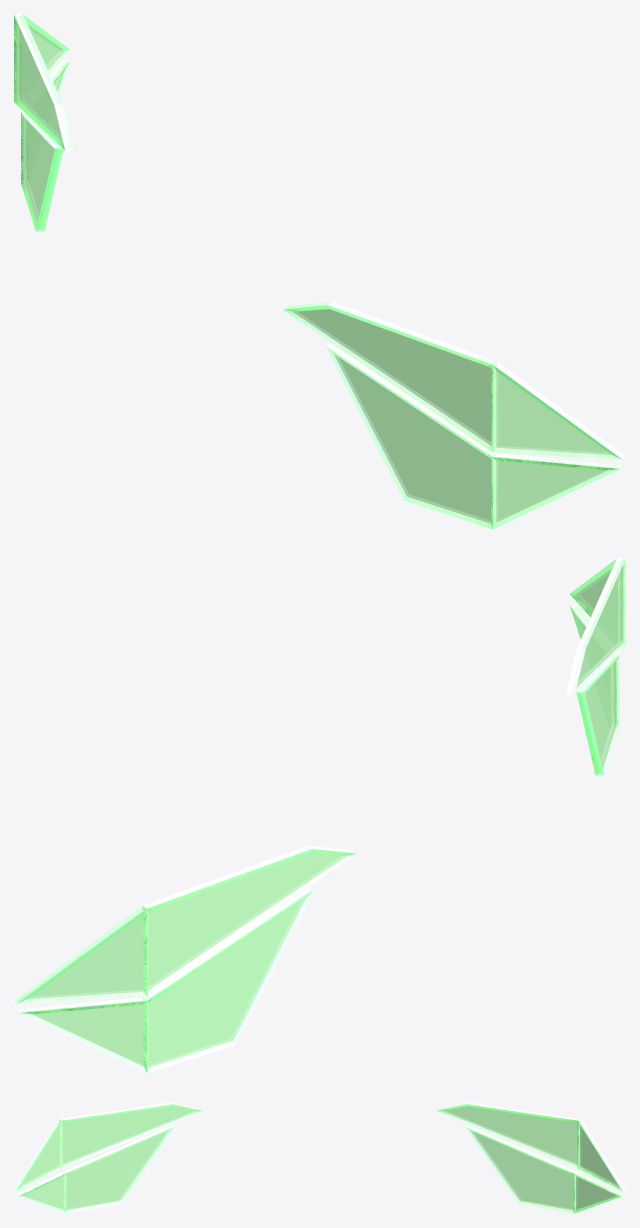
The model's file is PrototypeCockpitHUD.fbx.
3 renders of one model, top to bottom at view 1: azimuth 30°, elevation 25°; view 2: azimuth 150°, elevation 25°; view 3: azimuth 270°, elevation 25°, orthographic. The views are drawn at different scales.
Visible parts, largest first — view 1: Cockpit Upper HUD.001, Cockpit Lower HUD.001; view 2: Cockpit Upper HUD.001, Cockpit Lower HUD.001; view 3: Cockpit Upper HUD.001, Cockpit Lower HUD.001.
Boxes of the visible parts, x1,y1,x2,y2 form: Cockpit Upper HUD.001: [14, 14, 625, 459]; Cockpit Lower HUD.001: [21, 60, 622, 529]; Cockpit Upper HUD.001: [14, 558, 625, 1003]; Cockpit Lower HUD.001: [17, 604, 618, 1073]; Cockpit Upper HUD.001: [14, 1102, 625, 1191]; Cockpit Lower HUD.001: [16, 1125, 623, 1213].
Bounding box in the file's own units: 28.93 × 26.71 × 161.
